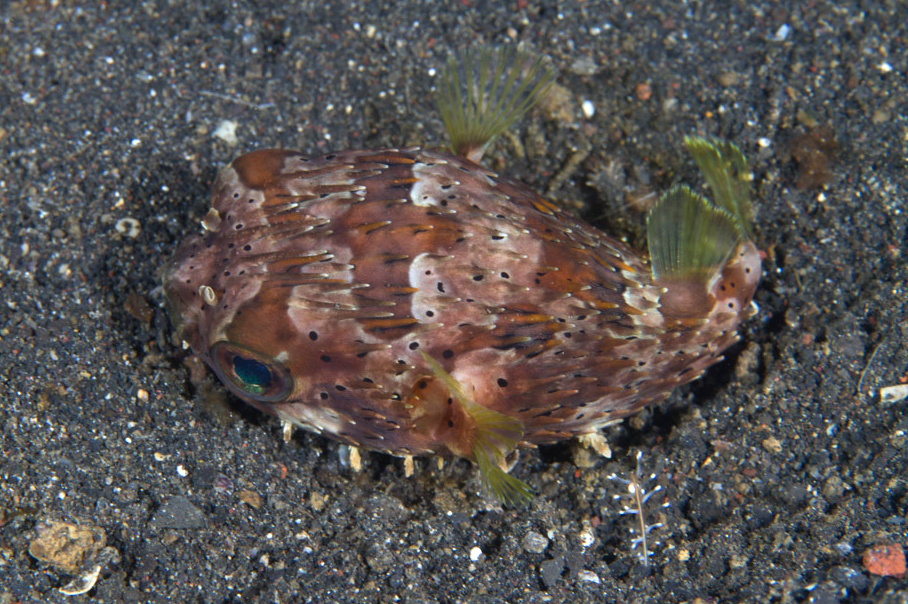Diodon_holocanthus: (163, 122, 776, 477)
